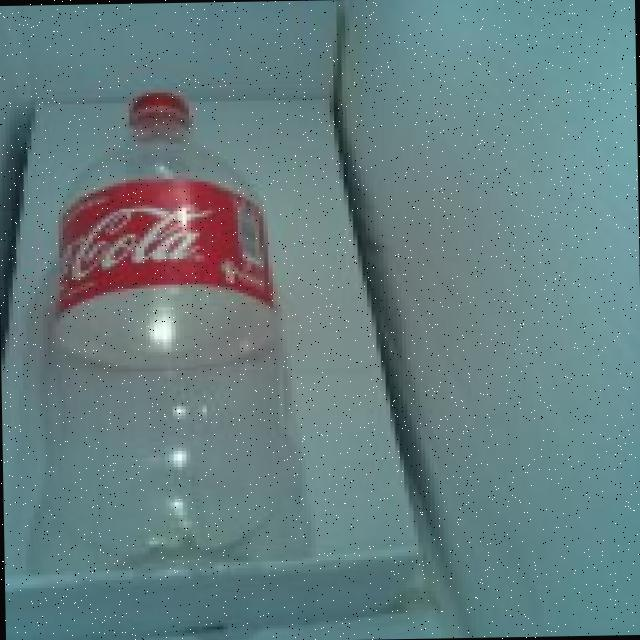bottle: (31, 81, 329, 587)
cap: (125, 92, 202, 130)
label: (48, 192, 286, 321)
